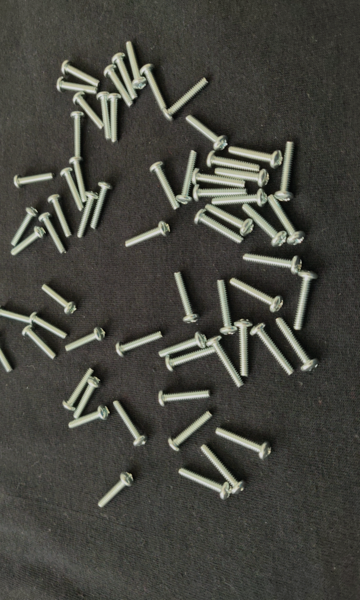longscrew: (275, 315, 320, 373), (249, 322, 295, 377), (200, 444, 247, 496), (162, 76, 210, 123), (215, 423, 272, 462), (206, 335, 245, 391), (241, 203, 288, 248), (229, 277, 285, 314), (268, 193, 306, 247), (168, 410, 214, 452), (194, 208, 246, 245), (177, 468, 233, 502), (112, 401, 149, 449), (204, 203, 256, 237), (185, 114, 229, 152), (149, 161, 182, 211), (293, 270, 320, 331), (228, 142, 283, 170), (173, 271, 201, 325), (62, 368, 96, 412), (274, 140, 298, 202), (158, 331, 209, 360), (140, 63, 169, 113), (103, 64, 134, 110), (165, 346, 217, 373), (242, 253, 303, 276), (175, 150, 200, 206), (124, 221, 172, 250), (115, 331, 164, 359), (111, 52, 138, 102), (72, 91, 105, 131), (21, 325, 57, 361), (73, 377, 103, 420), (98, 474, 134, 509), (233, 318, 254, 378), (217, 279, 239, 336), (210, 188, 269, 209), (89, 181, 114, 230), (212, 168, 270, 189), (38, 212, 66, 255), (29, 311, 69, 341), (10, 206, 39, 247), (41, 282, 77, 315), (206, 150, 260, 172), (10, 225, 47, 257), (76, 191, 100, 239), (47, 193, 72, 239), (64, 327, 107, 353), (61, 60, 100, 88), (60, 167, 84, 212), (126, 41, 148, 90), (67, 405, 110, 430), (192, 184, 248, 203), (191, 169, 247, 188), (158, 388, 211, 408), (69, 156, 89, 203), (106, 93, 123, 145), (56, 77, 99, 96), (70, 111, 87, 159), (96, 91, 112, 141), (13, 171, 56, 189), (0, 305, 34, 326), (0, 333, 14, 374)
